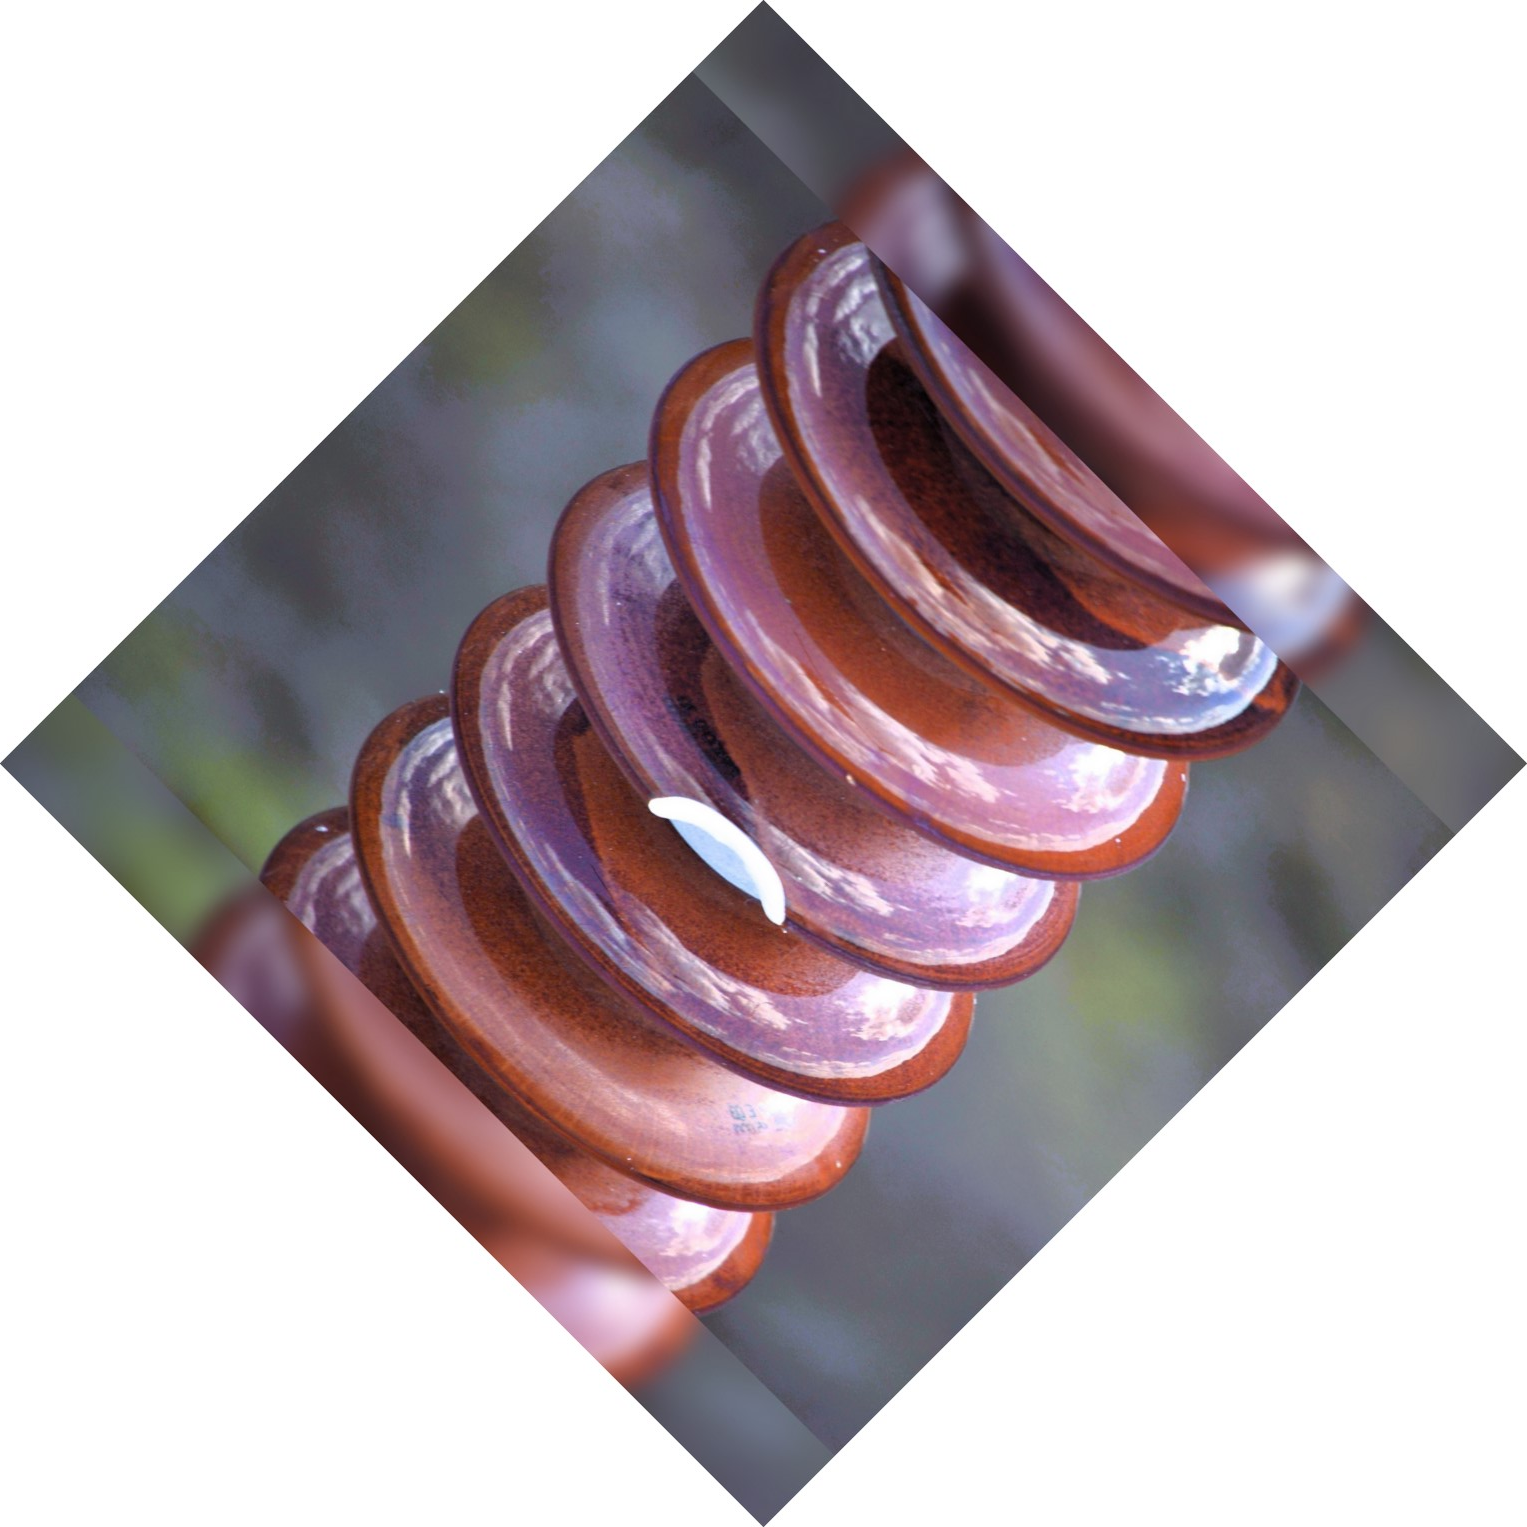insulator breakage: (503, 578, 1043, 1033)
